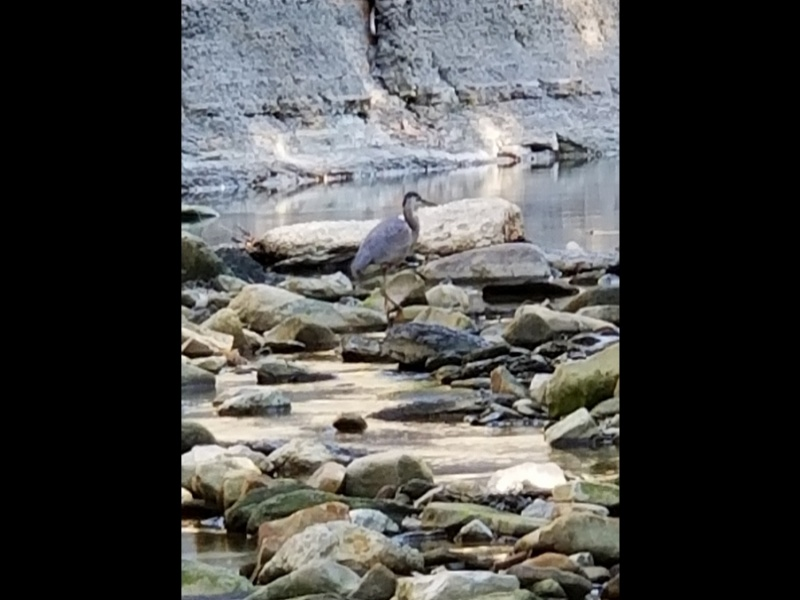heron: (352, 191, 434, 323)
